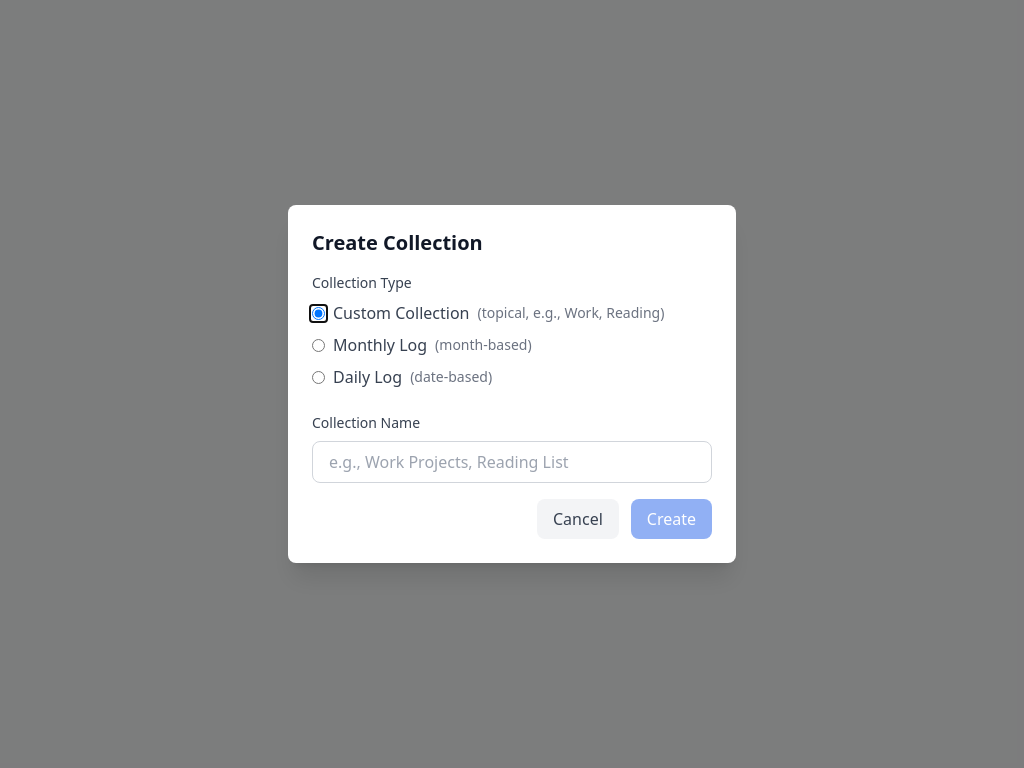
Test: CreateCollectionModal › should clear error when user starts typing
The width and height of the screenshot is (1024, 768).
Type "Test" into the field labelled "Collection Name" at (512, 462), box [312,441,712,483]
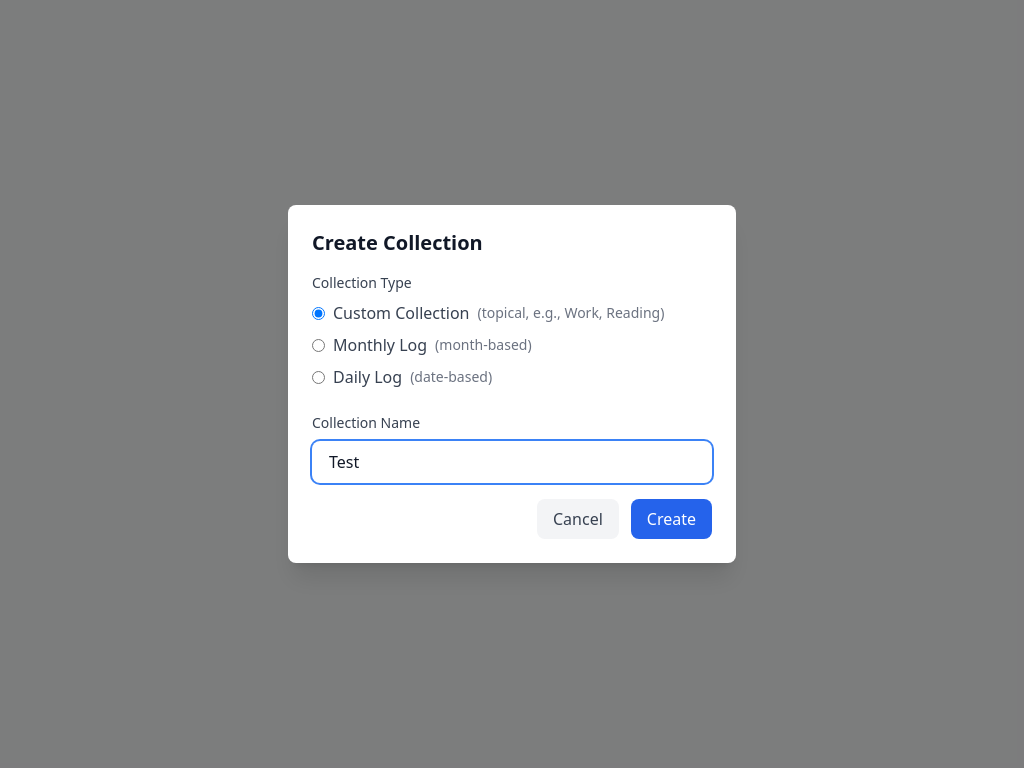
Click the button "Create" at (671, 519), box [631,499,712,539]
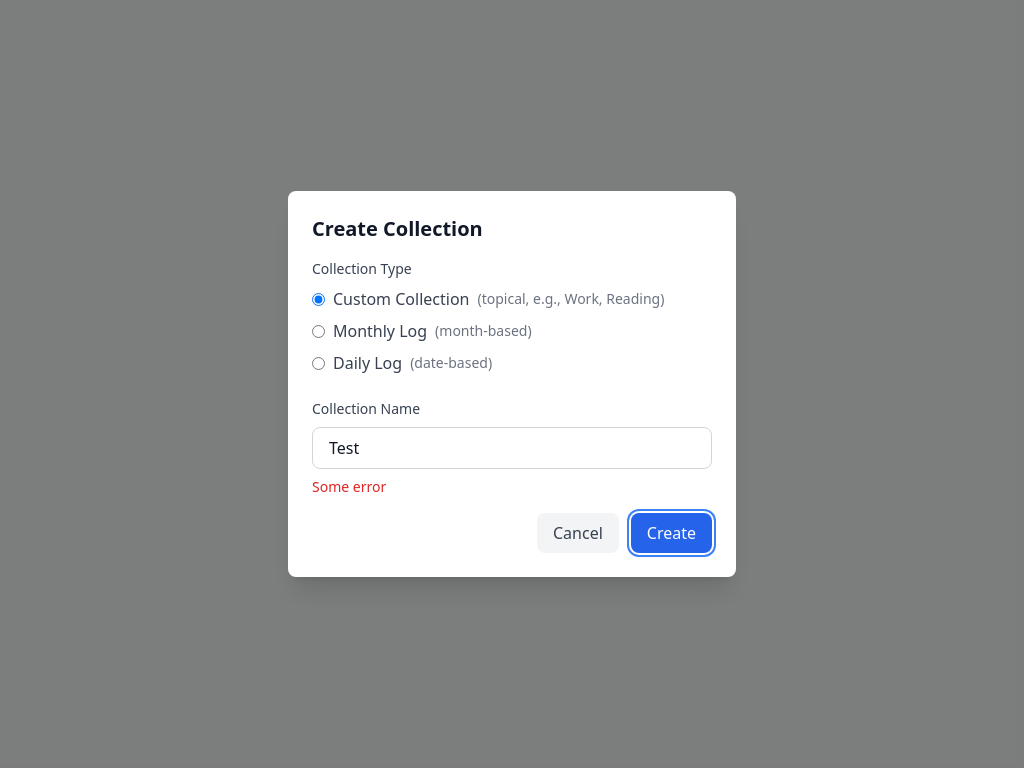
Result: the text "Some error" is shown at [312,477,386,496]
Type "X" into the field labelled "Collection Name" at (512, 448), box [312,427,712,469]
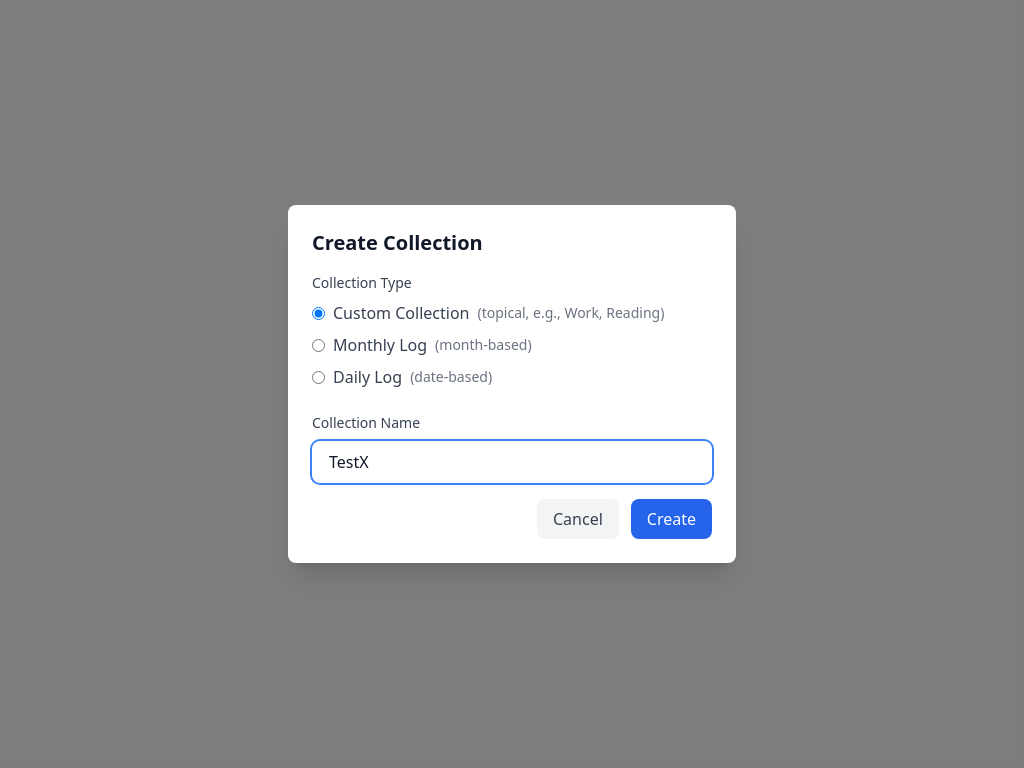
Result: the text "Some error" is gone
